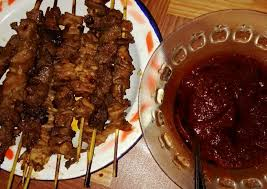sate: (1, 1, 140, 177)
